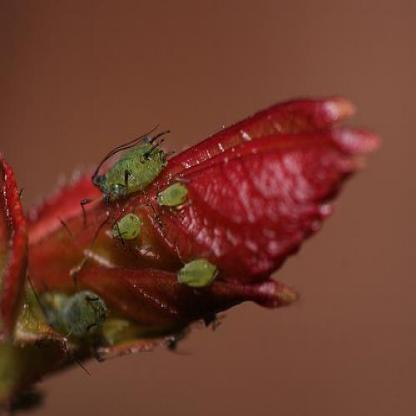aphid: (83, 128, 174, 199), (42, 278, 110, 344), (172, 250, 221, 295), (150, 172, 194, 213), (106, 211, 142, 251)
